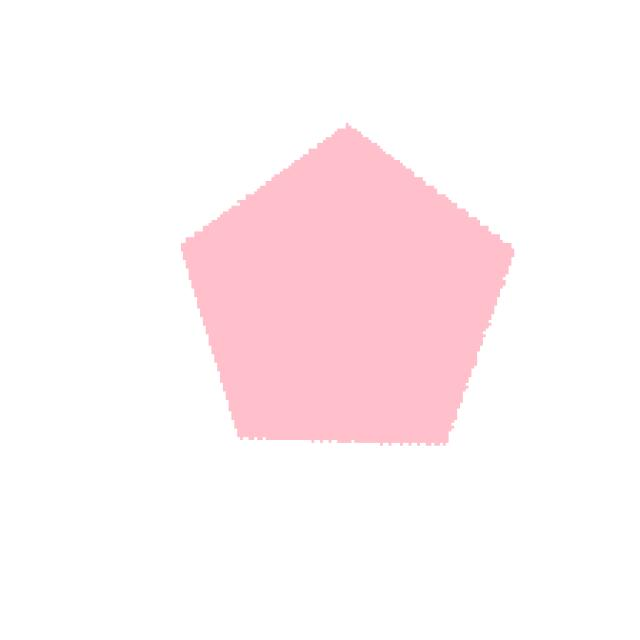Pentagon: (158, 100, 518, 476)
